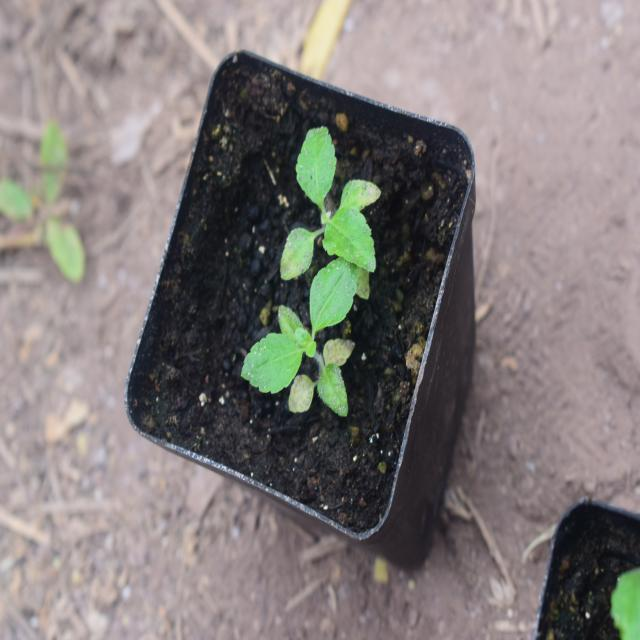billygoat_weed: (238, 245, 362, 432), (289, 147, 397, 297)
